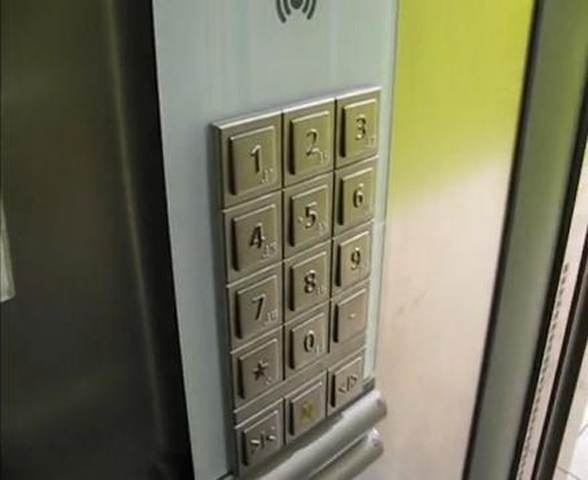.: (332, 286, 368, 346)
0: (287, 310, 326, 371)
1: (210, 107, 283, 212)
2: (274, 94, 335, 189)
3: (327, 85, 382, 170)
4: (216, 191, 283, 284)
5: (279, 171, 334, 259)
6: (332, 156, 374, 232)
7: (230, 274, 281, 340)
8: (284, 250, 331, 314)
9: (334, 227, 373, 289)
alarm: (288, 378, 325, 439)
close: (239, 407, 283, 468)
open: (331, 353, 365, 411)
s: (231, 327, 283, 402)
